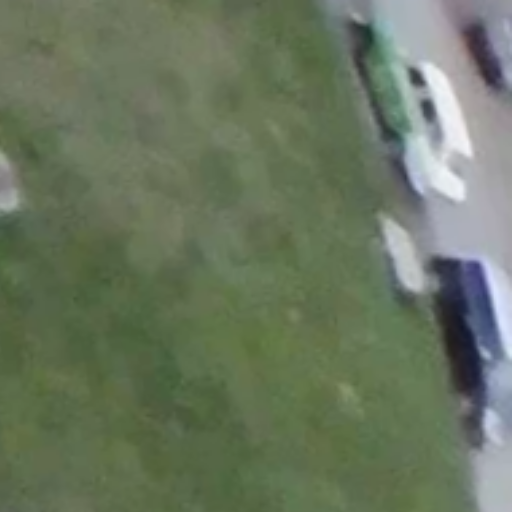Car: (348, 10, 471, 205), (425, 252, 509, 453)
